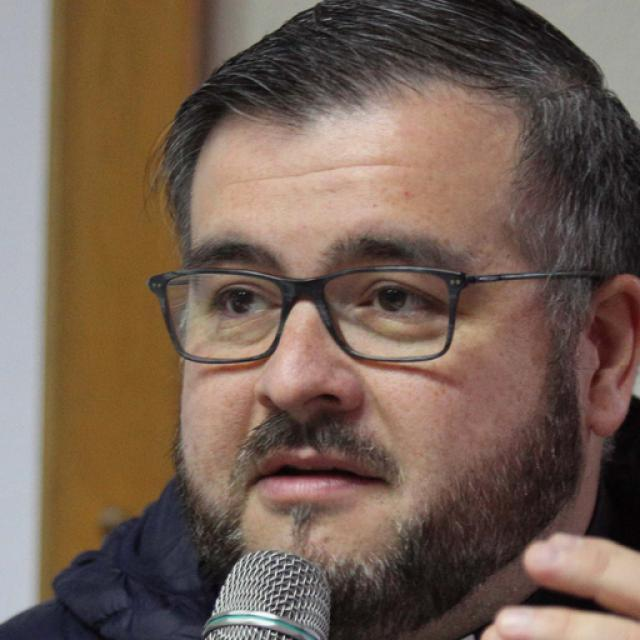surprise: (176, 89, 590, 640)
